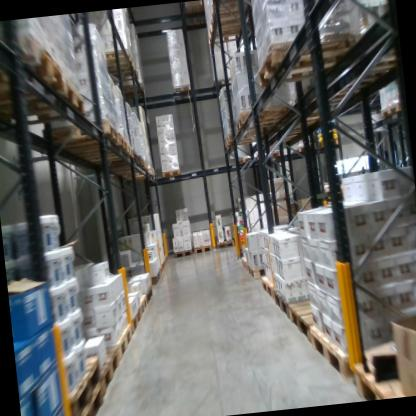pallet: (305, 309, 364, 401), (0, 75, 91, 132), (0, 32, 71, 104), (349, 344, 416, 400), (34, 117, 123, 159), (283, 290, 334, 355), (63, 356, 110, 416), (221, 121, 296, 147), (93, 342, 129, 396), (233, 103, 298, 132), (82, 136, 138, 169), (265, 282, 294, 332), (92, 322, 134, 354), (82, 135, 129, 159), (108, 166, 161, 187), (88, 46, 132, 68), (73, 390, 110, 416), (105, 66, 141, 91), (117, 79, 147, 101), (378, 95, 404, 120), (126, 304, 147, 334), (256, 148, 289, 165), (255, 268, 271, 303), (247, 257, 272, 279), (135, 285, 153, 314), (159, 163, 183, 182), (213, 233, 237, 250), (191, 240, 212, 258), (172, 243, 194, 259), (132, 146, 139, 165), (142, 160, 150, 172), (140, 151, 143, 167)
